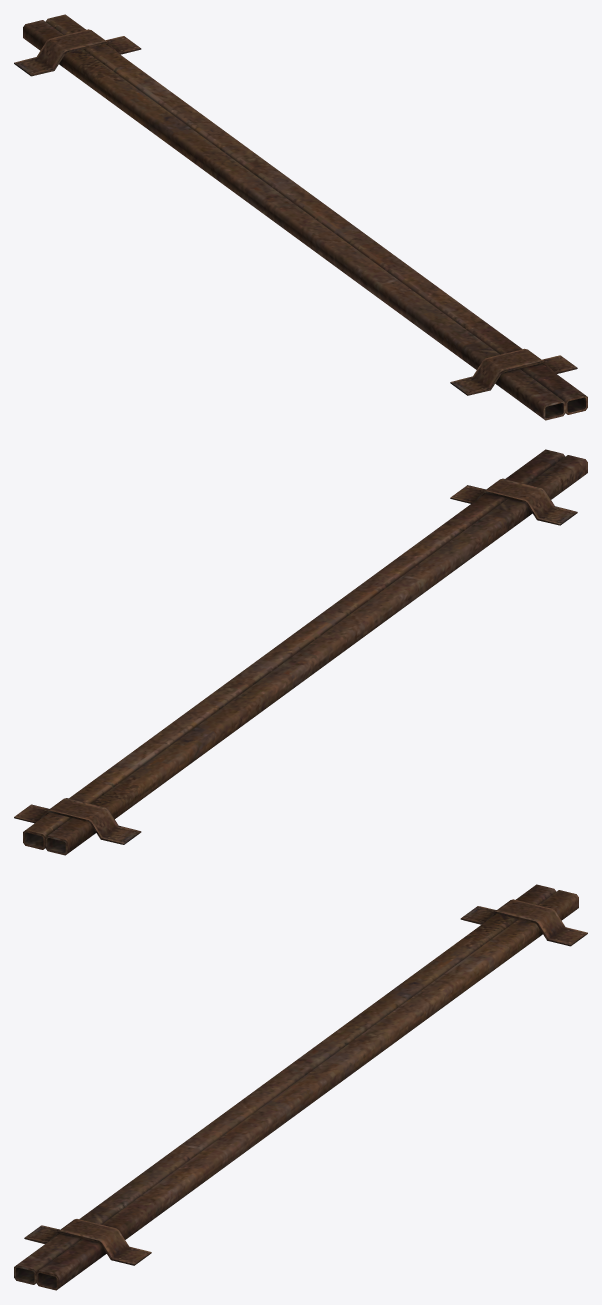
Rendered from girder_rusty_support.dae.
The picture shows the model from 3 angles, top to bottom: view 1: azimuth 30°, elevation 25°; view 2: azimuth 150°, elevation 25°; view 3: azimuth 330°, elevation 25°; orthographic projection.
Visible parts, largest first — view 1: girder_rusty_support_long; view 2: girder_rusty_support_long; view 3: girder_rusty_support_long.
Boxes of the visible parts, x1=… form: girder_rusty_support_long: x1=14, y1=14, x2=587, y2=420; girder_rusty_support_long: x1=14, y1=449, x2=587, y2=855; girder_rusty_support_long: x1=14, y1=884, x2=587, y2=1290.
Size of the model in its own units: 0.4427 by 0.0696 by 3.63.
